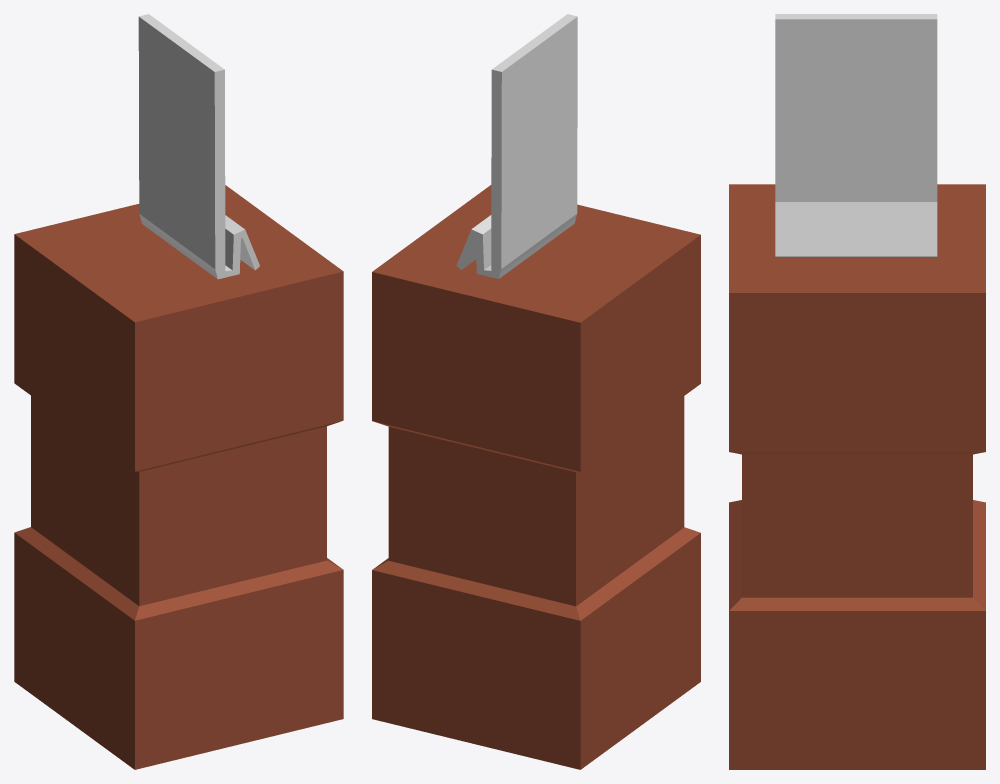
Rendered from Brosur.fbx.
3 renders of one model, left to right at view 1: azimuth 30°, elevation 25°; view 2: azimuth 150°, elevation 25°; view 3: azimuth 270°, elevation 25°, orthographic. The views are drawn at different scales.
Parts seen in each view (by area): view 1: Cube.173, Cube.174; view 2: Cube.173, Cube.174; view 3: Cube.173, Cube.174.
Part boxes in pixels (left/top/right/bottom): Cube.173: left=14, top=185, right=343, bottom=769; Cube.174: left=138, top=14, right=259, bottom=279; Cube.173: left=372, top=185, right=700, bottom=769; Cube.174: left=456, top=14, right=577, bottom=278; Cube.173: left=729, top=184, right=985, bottom=769; Cube.174: left=775, top=14, right=937, bottom=256.
Bounding box in the file's own units: 51.85 × 156 × 51.85.
